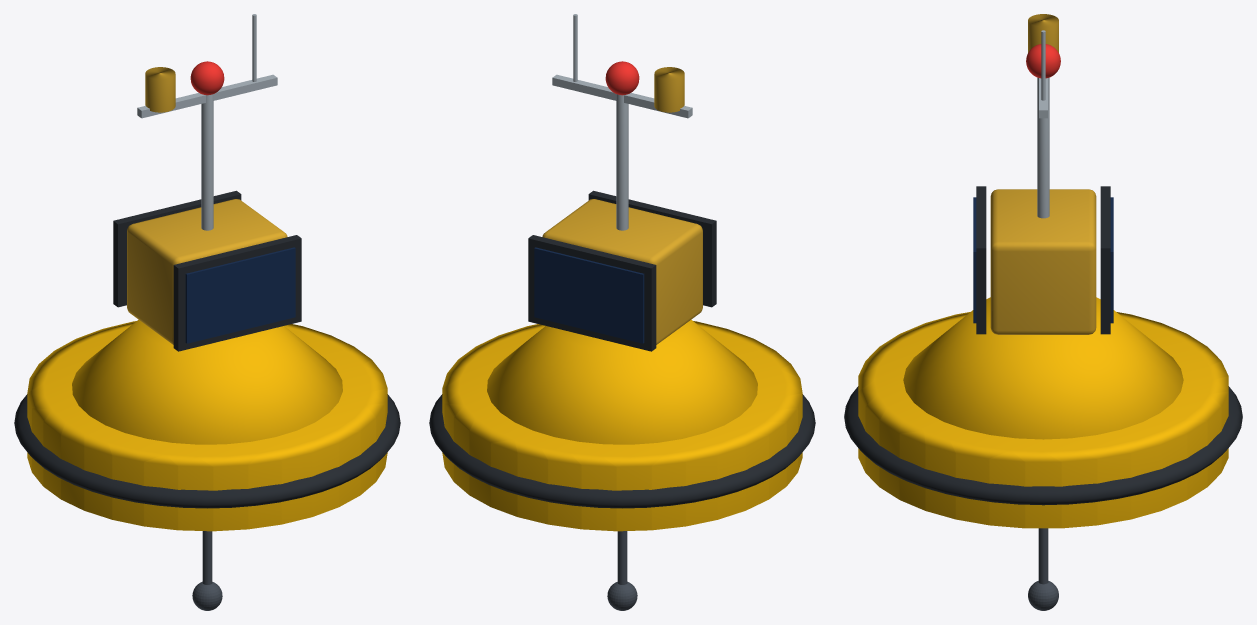
File: boyaInvestigacion.fbx
3 views of the same model, side by side, from view 1: azimuth 30°, elevation 25°; view 2: azimuth 150°, elevation 25°; view 3: azimuth 270°, elevation 25° (orthographic). The views are drawn at different scales.
Parts seen in each view (by area): view 1: cable; view 2: cable; view 3: cable.
Part boxes in pixels (bbox=[...]): cable: bbox=[14, 14, 400, 610]; cable: bbox=[429, 14, 815, 610]; cable: bbox=[844, 14, 1242, 610].
Bounding box in the file's own units: 320 × 533 × 320.
